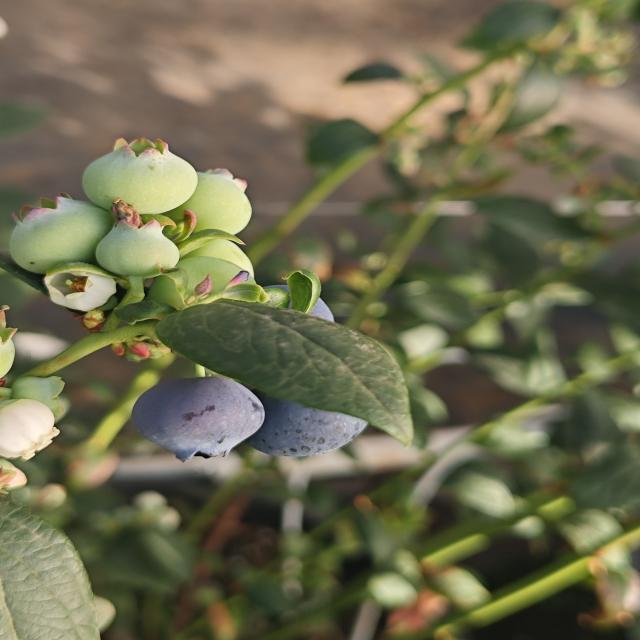ripe: (136, 374, 265, 463), (251, 380, 374, 462), (249, 277, 347, 329)
